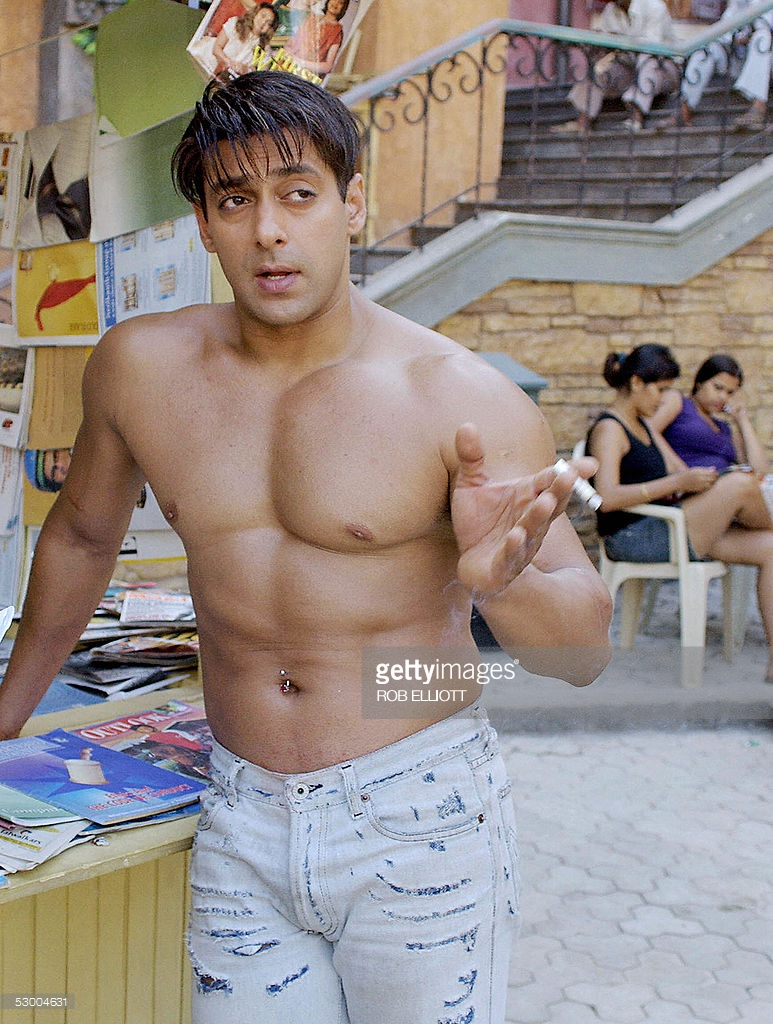cigarette: (552, 458, 616, 519)
